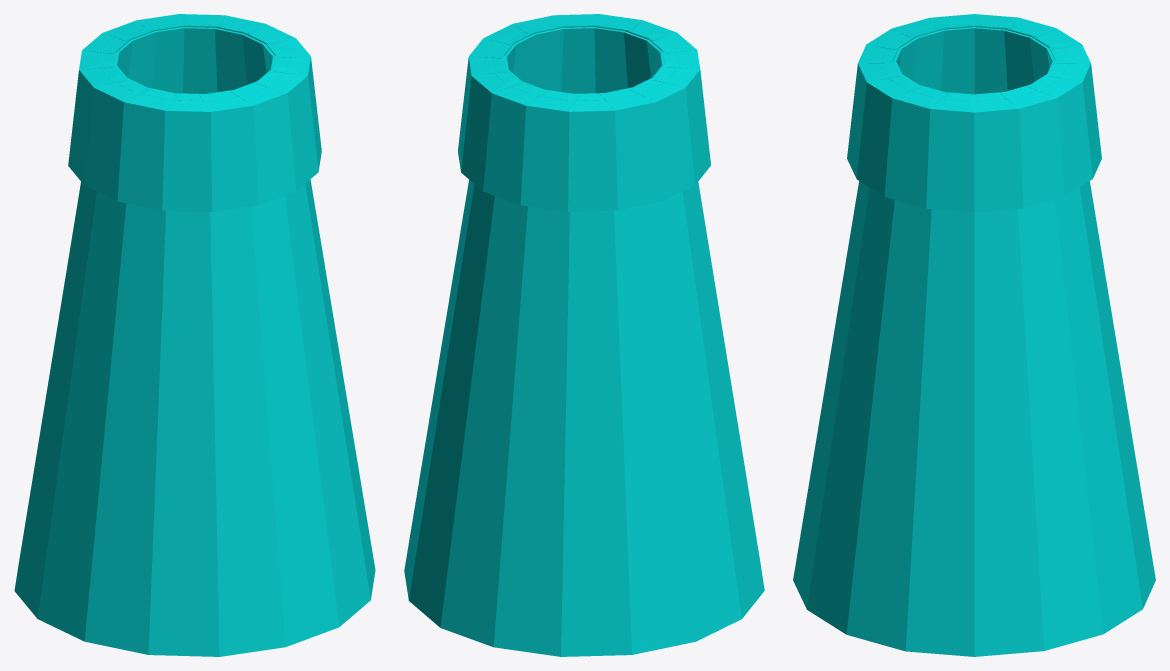
The model's file is SM_Bld_Preset_Tower_01_Collision.fbx.
3 views of the same model, side by side, from view 1: azimuth 30°, elevation 25°; view 2: azimuth 150°, elevation 25°; view 3: azimuth 270°, elevation 25° (orthographic).
Visible parts, largest first — view 1: SM_Bld_Preset_Tower_01_Collision; view 2: SM_Bld_Preset_Tower_01_Collision; view 3: SM_Bld_Preset_Tower_01_Collision.
Boxes of the visible parts, x1=… form: SM_Bld_Preset_Tower_01_Collision: x1=14, y1=14, x2=375, y2=656; SM_Bld_Preset_Tower_01_Collision: x1=404, y1=14, x2=764, y2=656; SM_Bld_Preset_Tower_01_Collision: x1=793, y1=14, x2=1155, y2=656.
Bounding box in the file's own units: 523 × 833 × 523.
